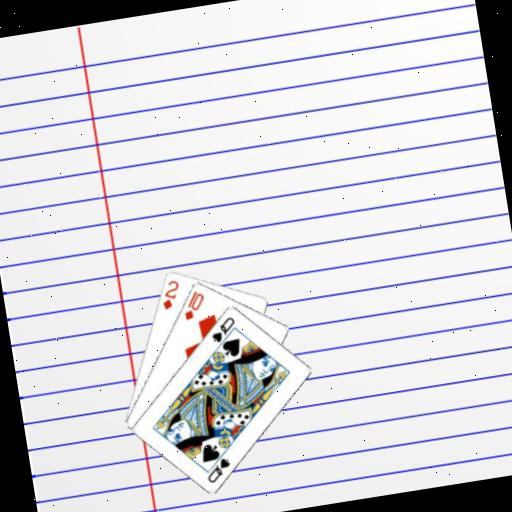10D: (177, 286, 208, 322)
2D: (156, 276, 184, 312)
QS: (205, 312, 239, 345), (201, 453, 234, 484)
